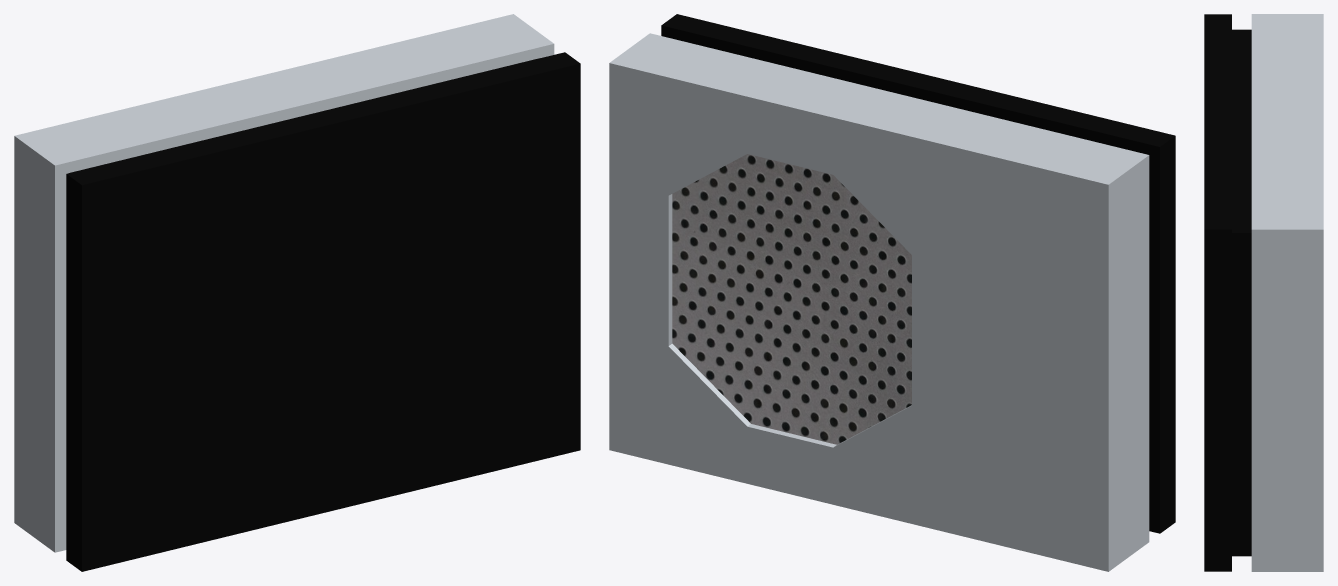
File: Speaker.fbx
3 views of the same model, side by side, from view 1: azimuth 30°, elevation 25°; view 2: azimuth 150°, elevation 25°; view 3: azimuth 270°, elevation 25° (orthographic). The views are drawn at different scales.
Visible parts, largest first — view 1: Cube; view 2: Cube, dottedMesh; view 3: Cube.
Boxes of the visible parts, bbox=[...] form: Cube: bbox=[14, 14, 580, 571]; Cube: bbox=[609, 14, 1175, 571]; dottedMesh: bbox=[672, 154, 911, 444]; Cube: bbox=[1204, 14, 1323, 571].
Bounding box in the file's own units: 200 × 46.75 × 148.
3 materials, 1 textured.
